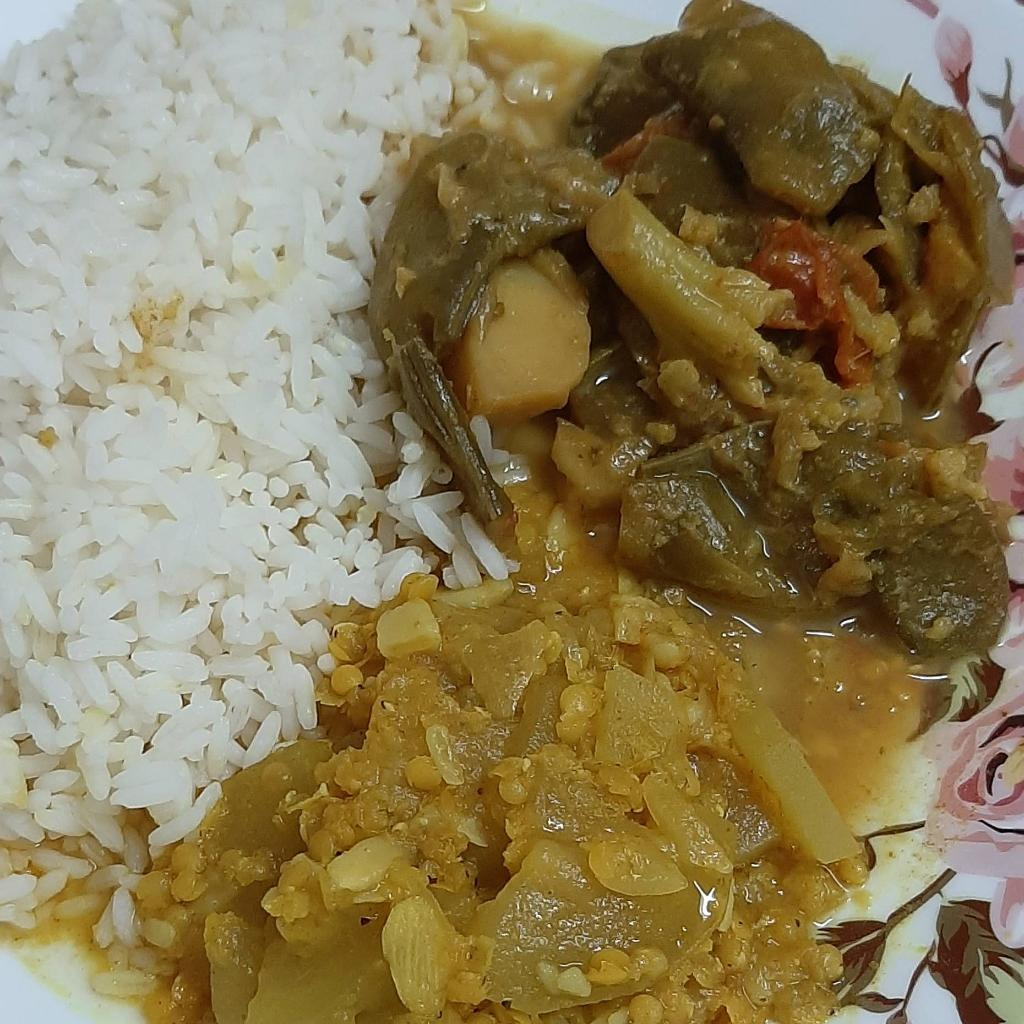lau: (138, 484, 930, 1023)
rice: (0, 0, 562, 995)
vegetable: (364, 1, 1017, 659)
